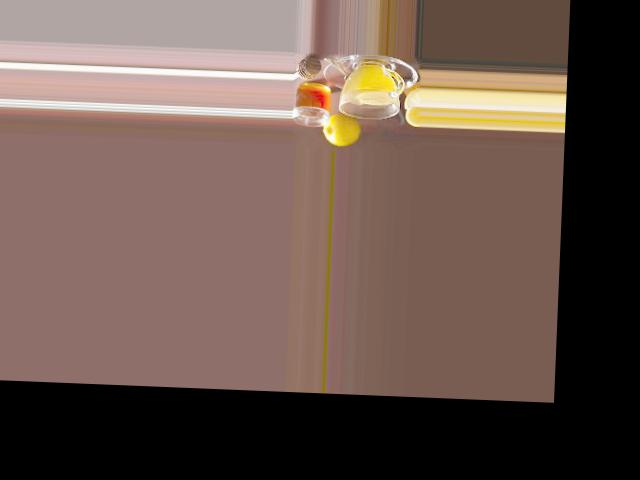lemon: (320, 111, 366, 147)
